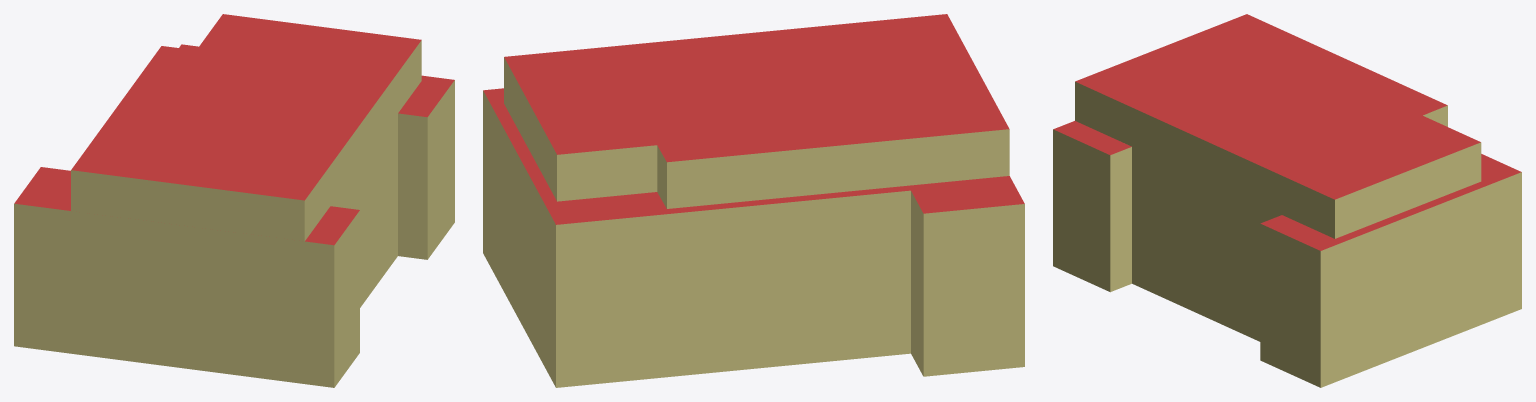
The picture shows the model from 3 angles, left to right: view 1: azimuth 30°, elevation 25°; view 2: azimuth 150°, elevation 25°; view 3: azimuth 270°, elevation 25°; orthographic projection. The views are drawn at different scales.
Parts seen in each view (by area): view 1: group_7, group_3, group_4, group_6; view 2: group_7, group_3, group_4, group_6; view 3: group_7, group_3, group_4, group_6.
Boxes of the visible parts, x1,y1,x2,y2 form: group_7: (14,80,454,387); group_3: (71,14,421,200); group_4: (71,40,421,307); group_6: (14,44,454,245); group_7: (483,90,1024,387); group_3: (504,14,1009,162); group_4: (504,57,1009,208); group_6: (483,88,1024,224); group_7: (1053,129,1521,387); group_3: (1075,14,1480,199); group_4: (1075,81,1481,341); group_6: (1053,121,1521,250).
Size of the model in its own units: 32.54 by 30.09 by 12.48.
